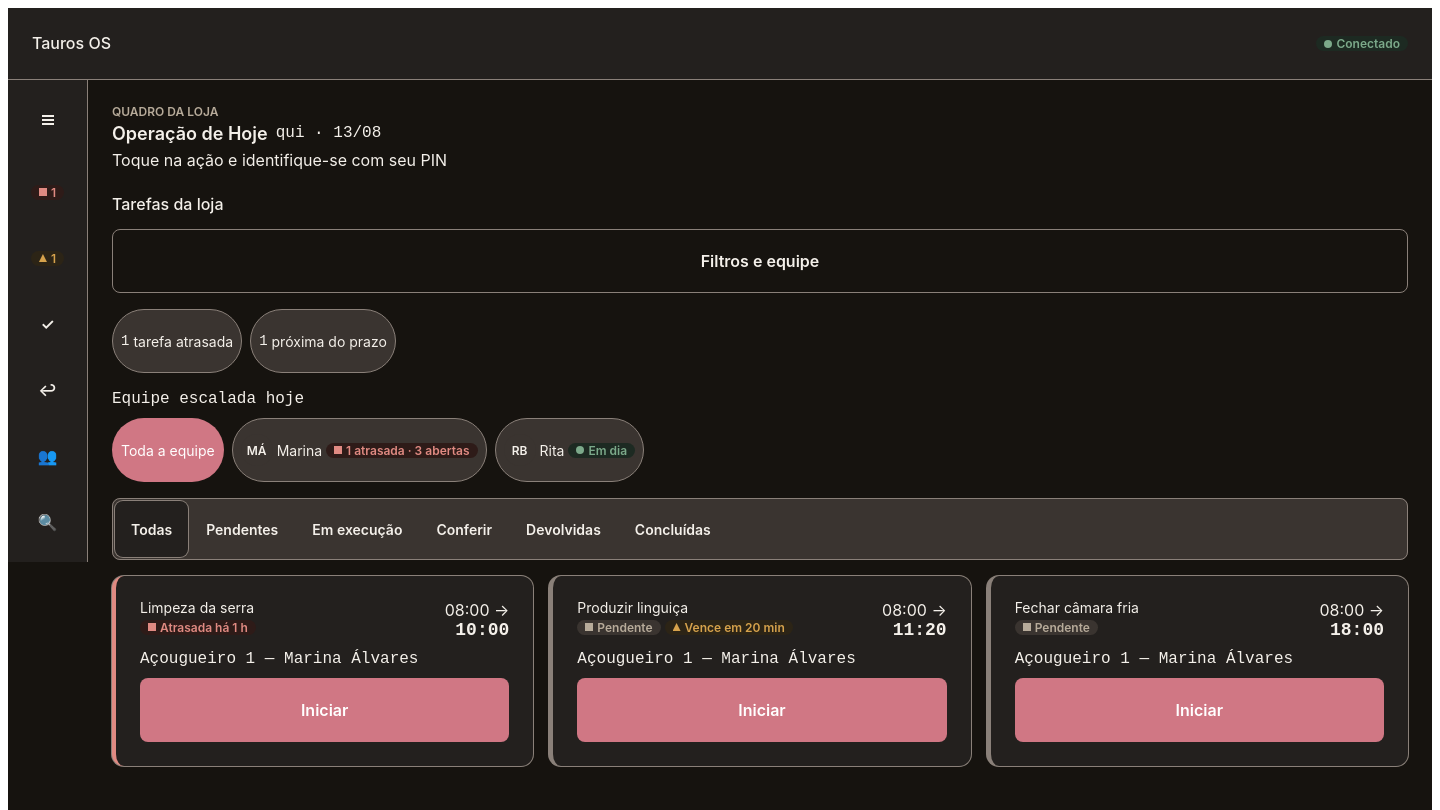
Test case: Touch e mobile › 10. mobile: gatilho "Filtros e equipe" da tela segue funcionando (Drawer)
Click the button "Filtros e equipe" at (760, 261), box [112, 229, 1408, 293]
(page scrolled)
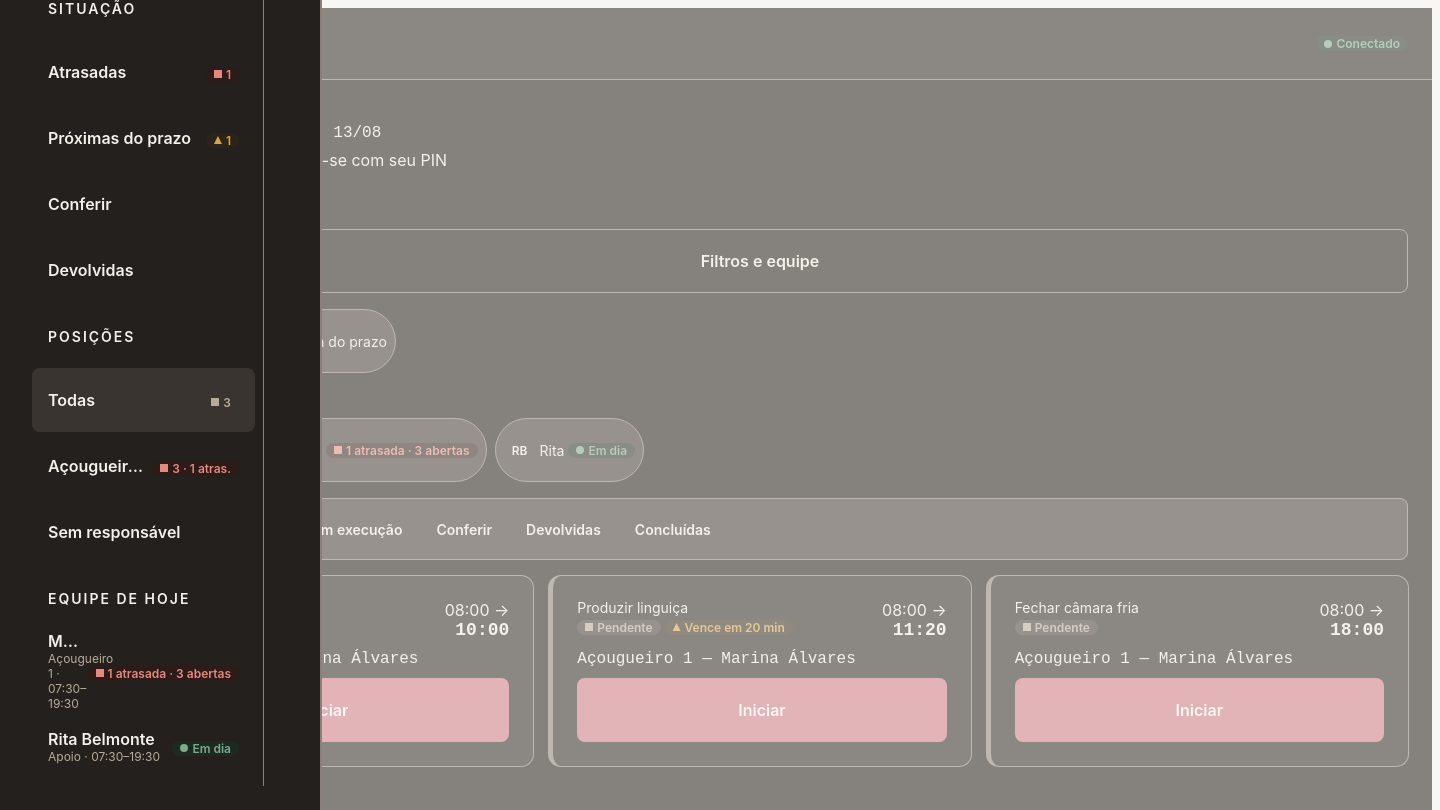
Click the button "Marina Álvares" at (144, 671), box [32, 630, 255, 712]
(page scrolled)
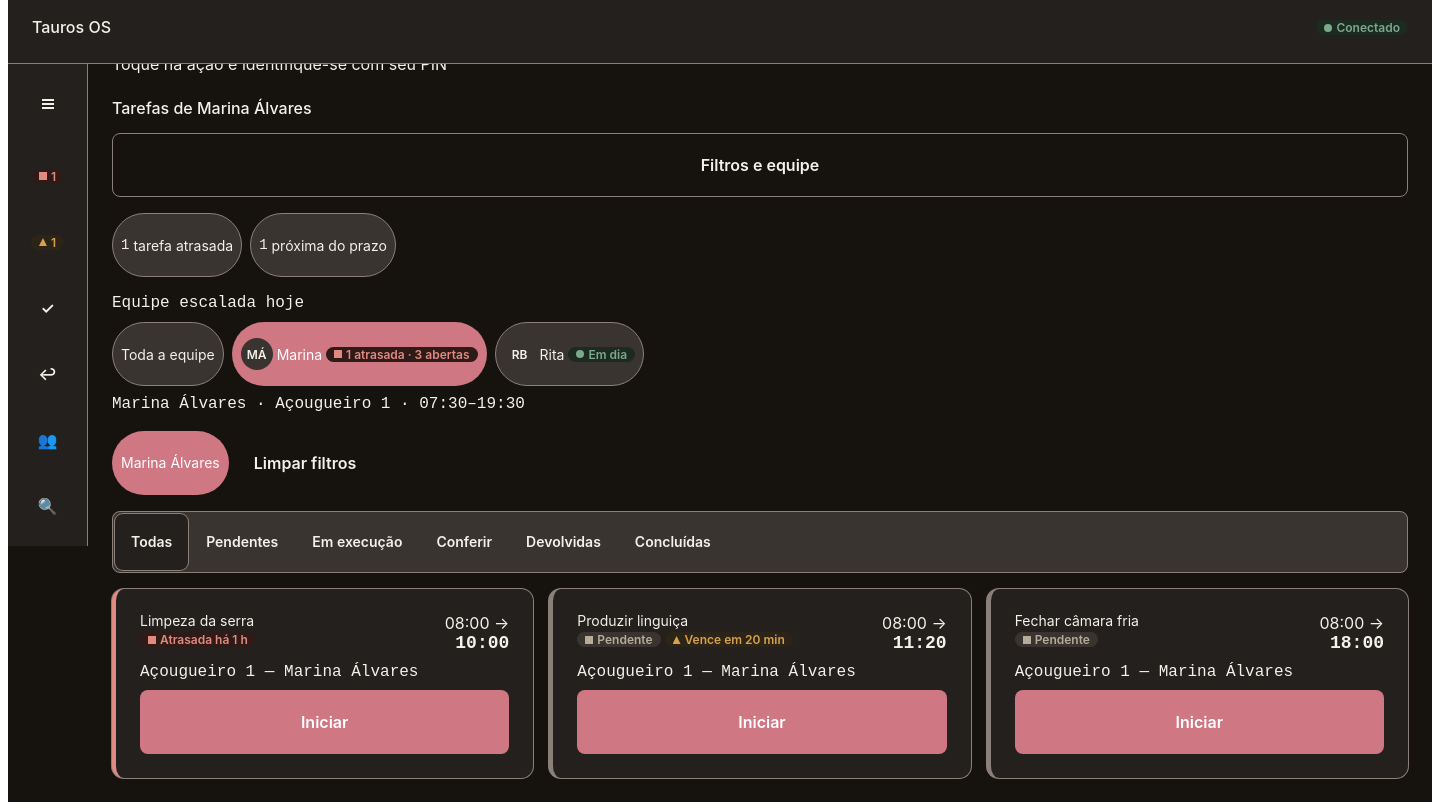
Check: the element "Tarefas de Marina Álvares" is shown
